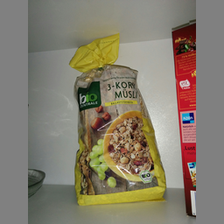cereal: (67, 34, 169, 205)
